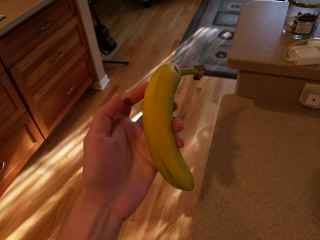banana: (141, 61, 206, 194)
